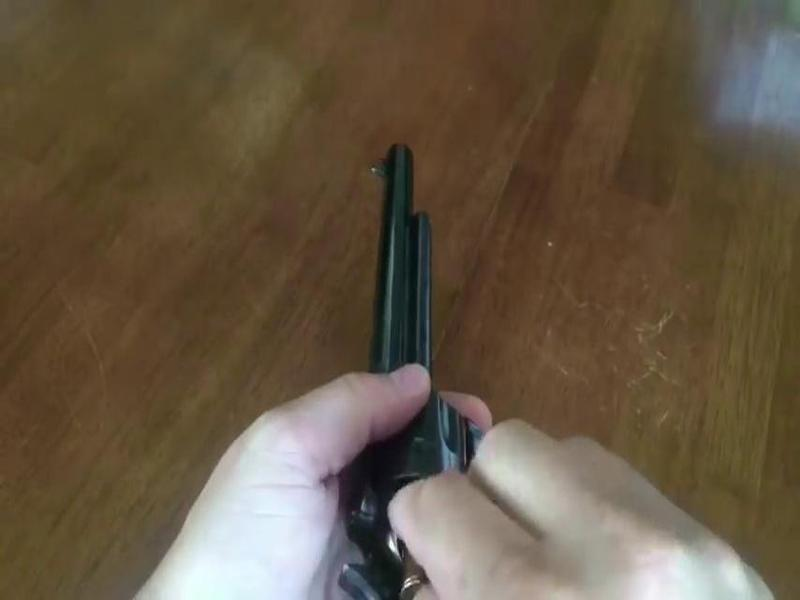Revolver: (329, 121, 524, 600)
